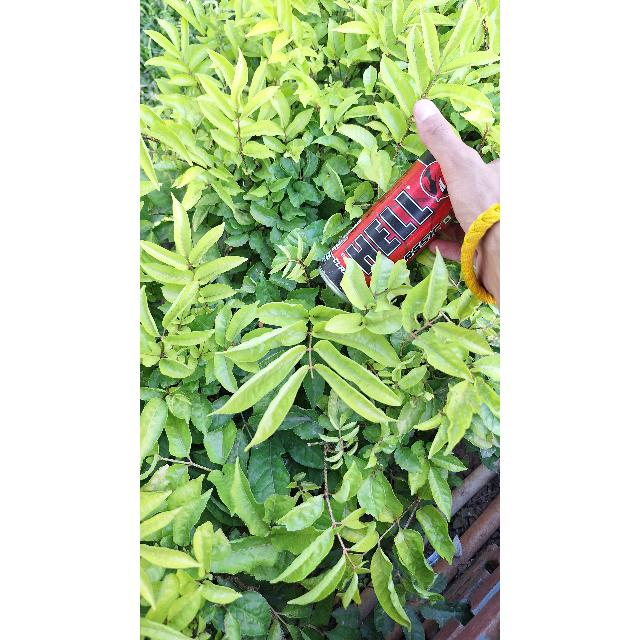Hell Classic: (319, 154, 445, 314)
